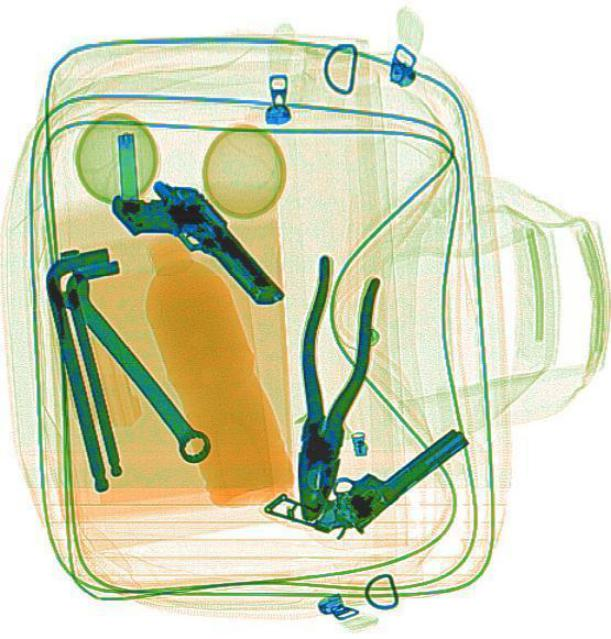Gun: (262, 427, 469, 540), (110, 177, 282, 304)
Pliers: (269, 250, 384, 525)
Wrench: (34, 259, 226, 476)
